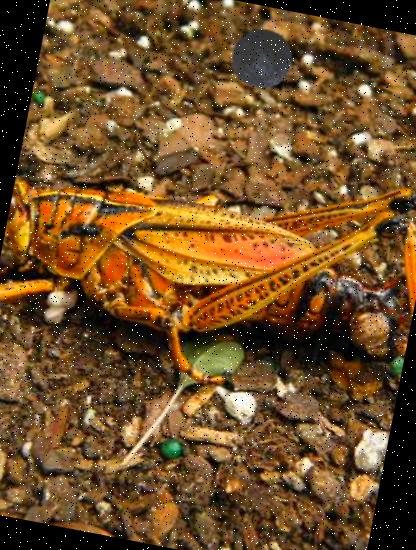Avocado: (224, 17, 304, 97)
